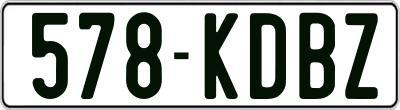5: (31, 11, 70, 97)
7: (77, 10, 113, 100)
8: (123, 9, 160, 100)
B: (299, 11, 338, 101)
D: (250, 13, 290, 102)
K: (202, 10, 240, 97)
Z: (344, 13, 380, 102)
